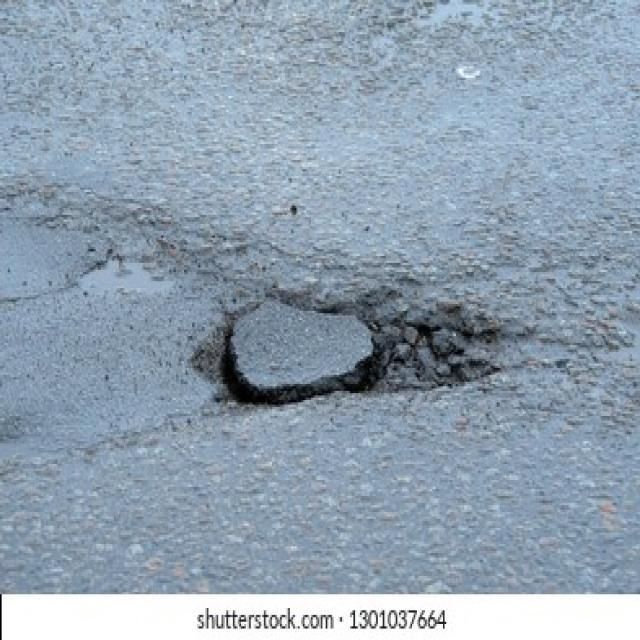Pothole: (179, 281, 502, 407)
